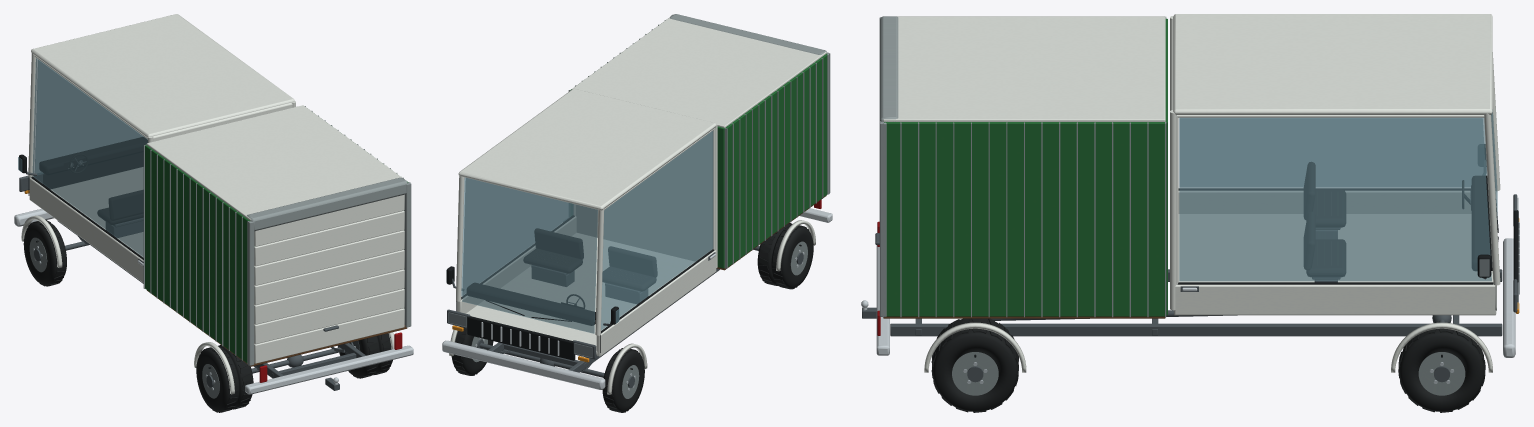
File: LandscapingTruck.gltf
The picture shows the model from 3 angles, left to right: view 1: azimuth 30°, elevation 25°; view 2: azimuth 150°, elevation 25°; view 3: azimuth 270°, elevation 25°; orthographic projection. The views are drawn at different scales.
Parts seen in each view (by area): view 1: LandscapingTruck__Body, LandscapingTruck__RearDoor, LandscapingTruck__DriverDoorGlass, LandscapingTruck__Glass_Windshield, LandscapingTruck__DriverDoor, LandscapingTruck__Wheel_RL, LandscapingTruck__Wheel_FL, LandscapingTruck__Wheel_RR; view 2: LandscapingTruck__Body, LandscapingTruck__Glass_Windshield, LandscapingTruck__DriverDoorGlass, LandscapingTruck, LandscapingTruck__DriverDoor, LandscapingTruck__Wheel_RL, LandscapingTruck__Wheel_FL, LandscapingTruck__Wheel_FR; view 3: LandscapingTruck__Body, LandscapingTruck, LandscapingTruck__DriverDoorGlass, LandscapingTruck__DriverDoor, LandscapingTruck__Wheel_RR, LandscapingTruck__Wheel_FR.
Part boxes in pixels (left/top/right/bottom): LandscapingTruck__Body: left=14, top=14, right=413, bottom=394; LandscapingTruck__RearDoor: left=254, top=194, right=404, bottom=363; LandscapingTruck__DriverDoorGlass: left=18, top=58, right=147, bottom=256; LandscapingTruck__Glass_Windshield: left=35, top=60, right=142, bottom=174; LandscapingTruck__DriverDoor: left=19, top=56, right=147, bottom=282; LandscapingTruck__Wheel_RL: left=196, top=345, right=253, bottom=412; LandscapingTruck__Wheel_FL: left=23, top=220, right=66, bottom=286; LandscapingTruck__Wheel_RR: left=338, top=333, right=392, bottom=378; LandscapingTruck__Body: left=442, top=14, right=832, bottom=394; LandscapingTruck__Glass_Windshield: left=462, top=178, right=597, bottom=333; LandscapingTruck__DriverDoorGlass: left=601, top=131, right=713, bottom=330; LandscapingTruck: left=461, top=177, right=572, bottom=296; LandscapingTruck__DriverDoor: left=596, top=128, right=716, bottom=356; LandscapingTruck__Wheel_RL: left=757, top=223, right=813, bottom=289; LandscapingTruck__Wheel_FL: left=602, top=348, right=644, bottom=412; LandscapingTruck__Wheel_FR: left=451, top=326, right=493, bottom=375; LandscapingTruck__Body: left=861, top=14, right=1519, bottom=372; LandscapingTruck: left=1179, top=118, right=1491, bottom=281; LandscapingTruck__DriverDoorGlass: left=1180, top=117, right=1487, bottom=186; LandscapingTruck__DriverDoor: left=1178, top=144, right=1495, bottom=213; LandscapingTruck__Wheel_RR: left=931, top=318, right=1018, bottom=412; LandscapingTruck__Wheel_FR: left=1398, top=328, right=1485, bottom=412.
Size of the model in its own units: 2.1 by 2.53 by 5.08.
3 materials, 1 textured.
